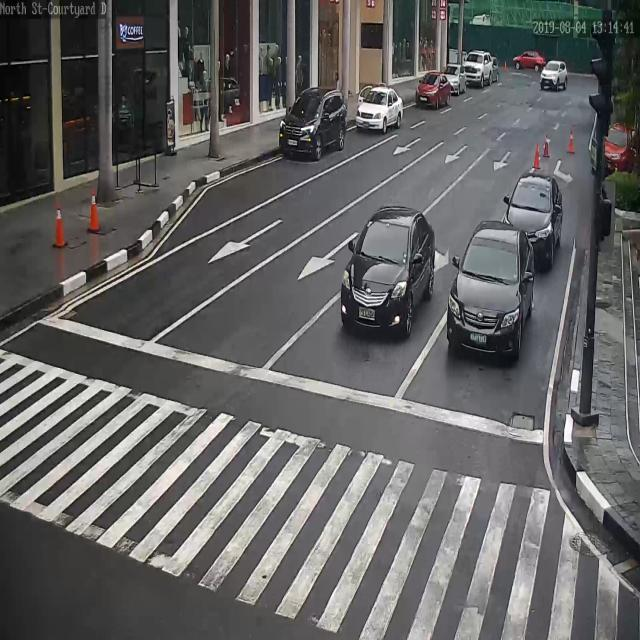car: (341, 206, 436, 339), (447, 222, 537, 361), (503, 173, 564, 273), (279, 87, 349, 162), (354, 85, 403, 133), (604, 122, 640, 177), (416, 70, 453, 109), (463, 49, 499, 86), (539, 61, 570, 91), (442, 65, 471, 94), (513, 52, 549, 71)
